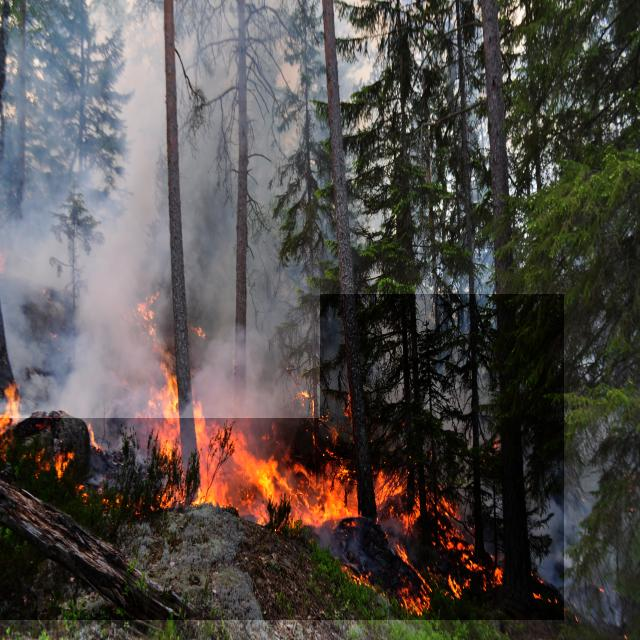Fire: (0, 294, 564, 620)
Smoke: (0, 13, 320, 418)
